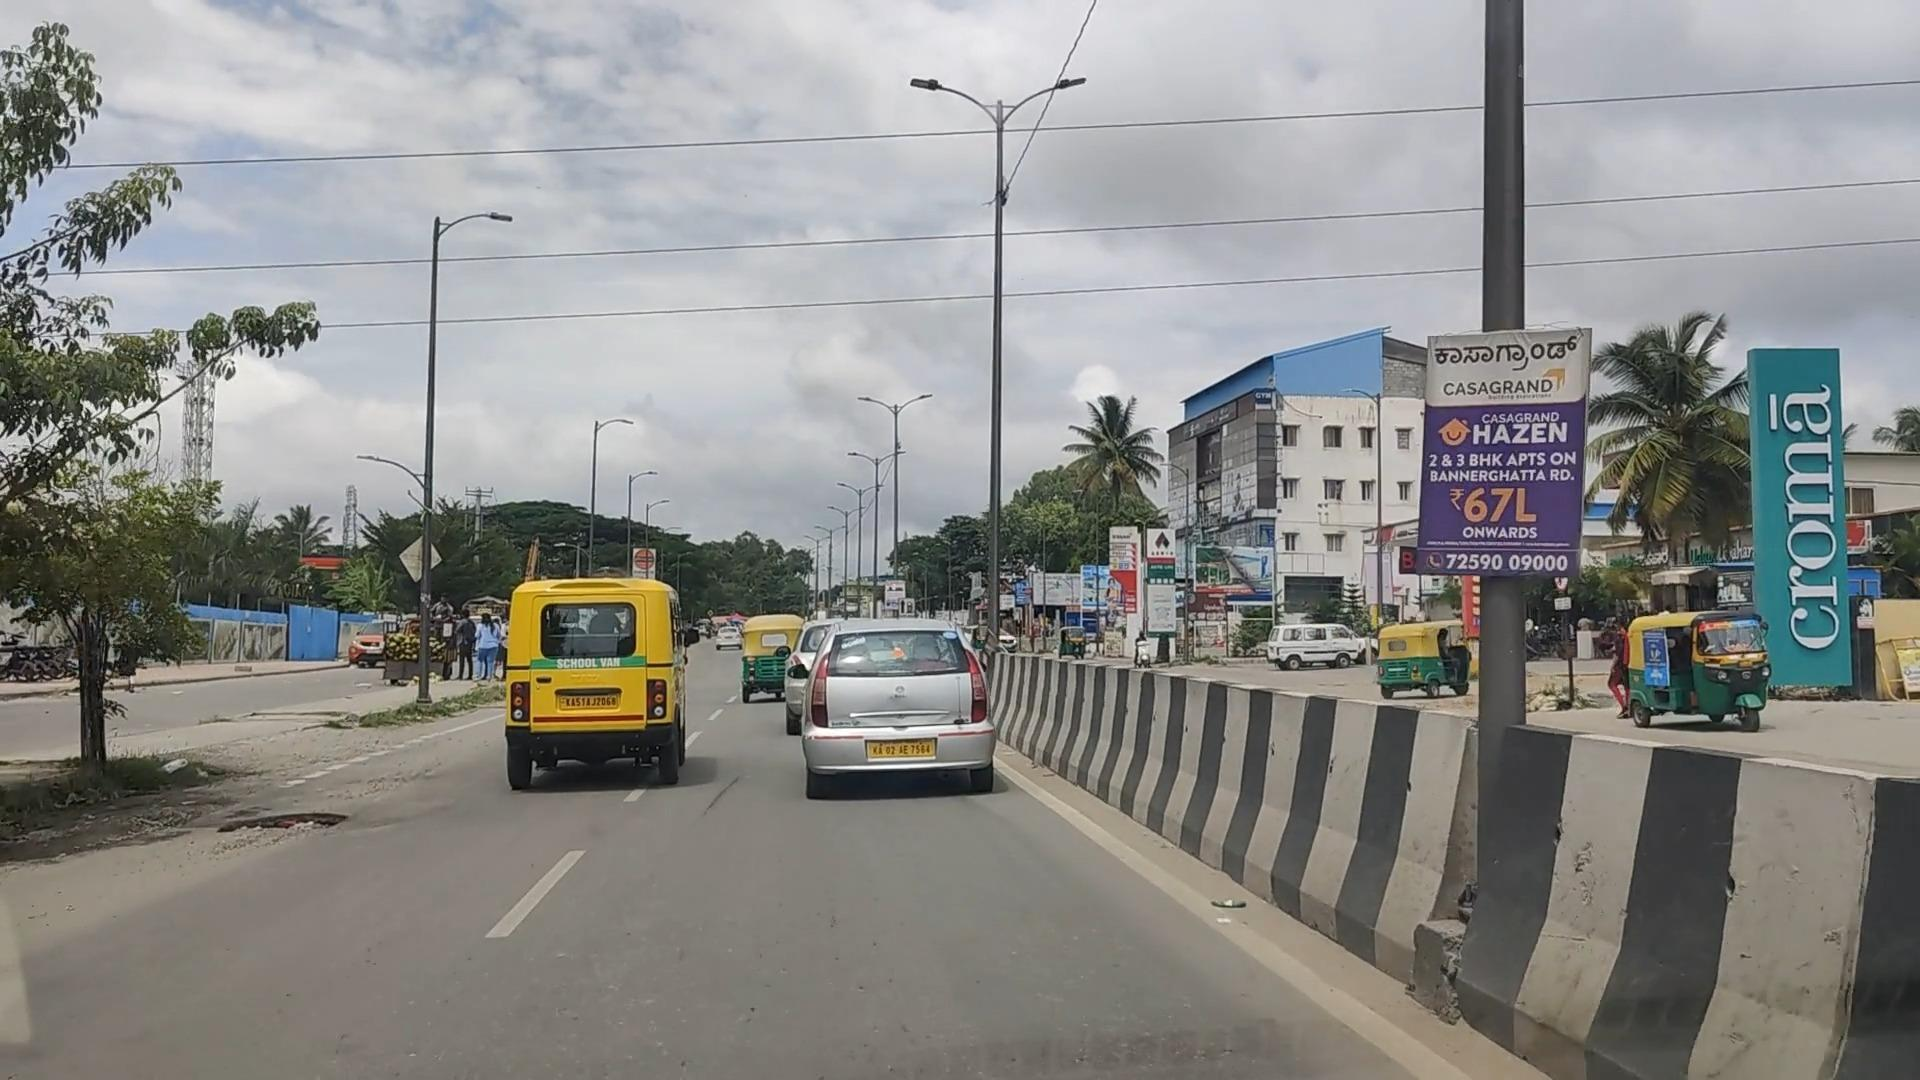LMV: (487, 576, 700, 793), (786, 620, 1000, 807)
